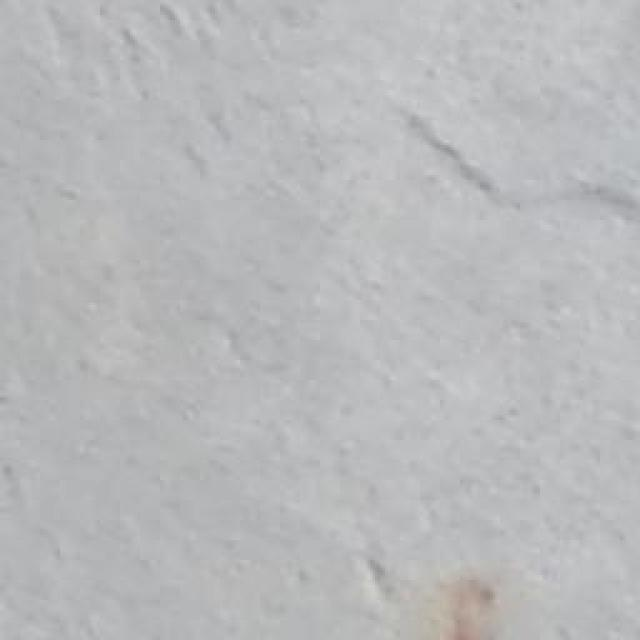concrete-crack: (397, 102, 640, 227)
